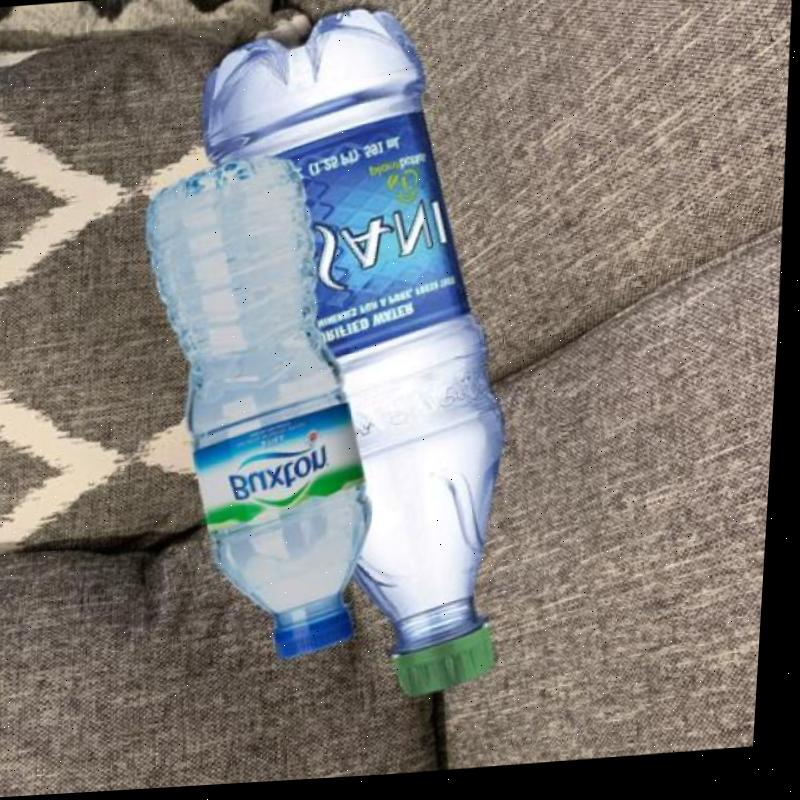botella: (166, 0, 536, 720), (127, 154, 400, 669)
